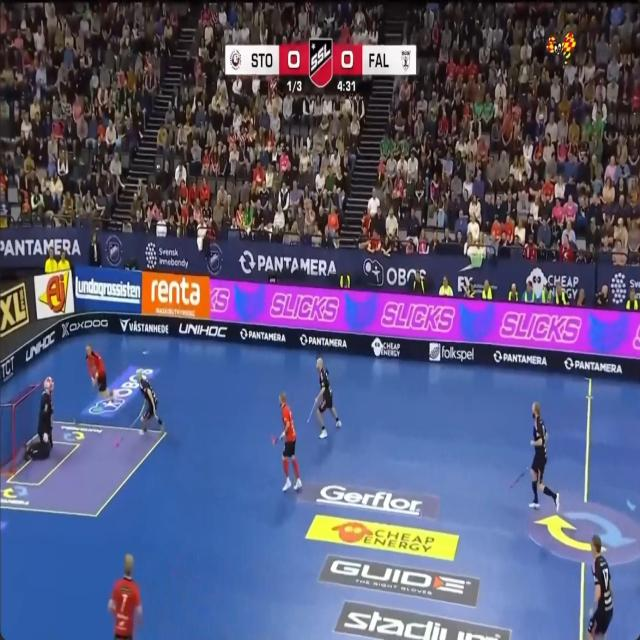player: (529, 401, 559, 509), (109, 553, 142, 639), (587, 534, 612, 639), (25, 377, 53, 460), (279, 392, 301, 490), (316, 358, 341, 438), (136, 369, 163, 432), (86, 344, 112, 397)
stick: (509, 469, 526, 488), (307, 399, 316, 422)
